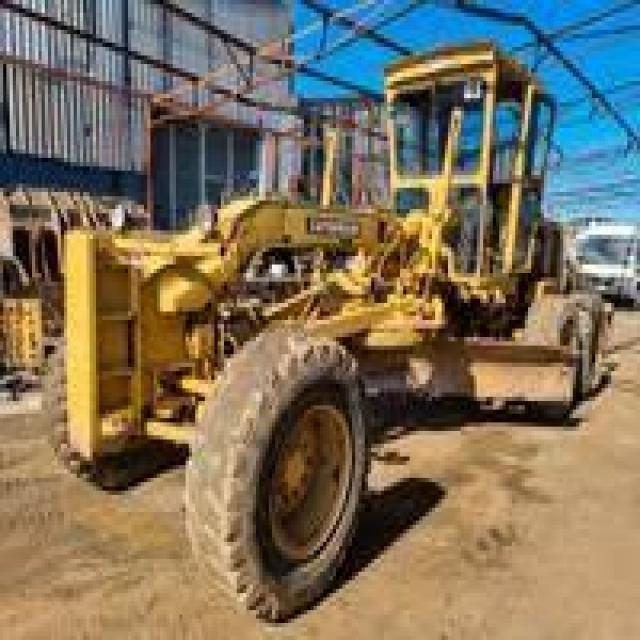Grader: (51, 39, 618, 602)
